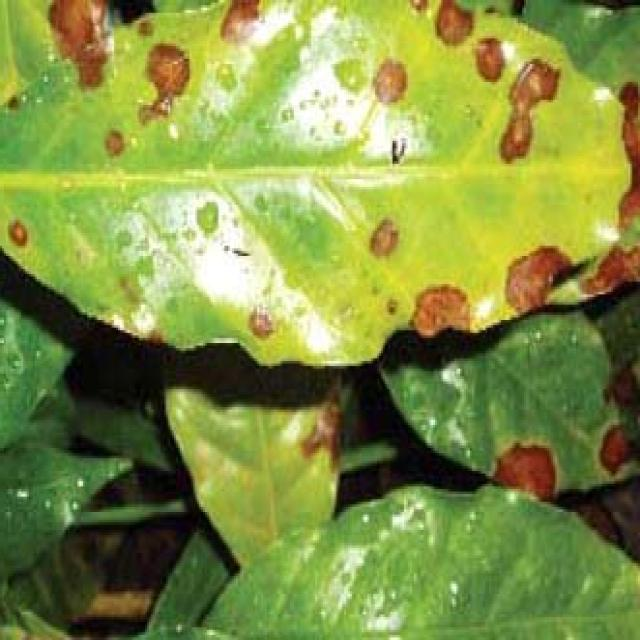Enfermedad-Mancha-de-hierro: (0, 0, 632, 369)
